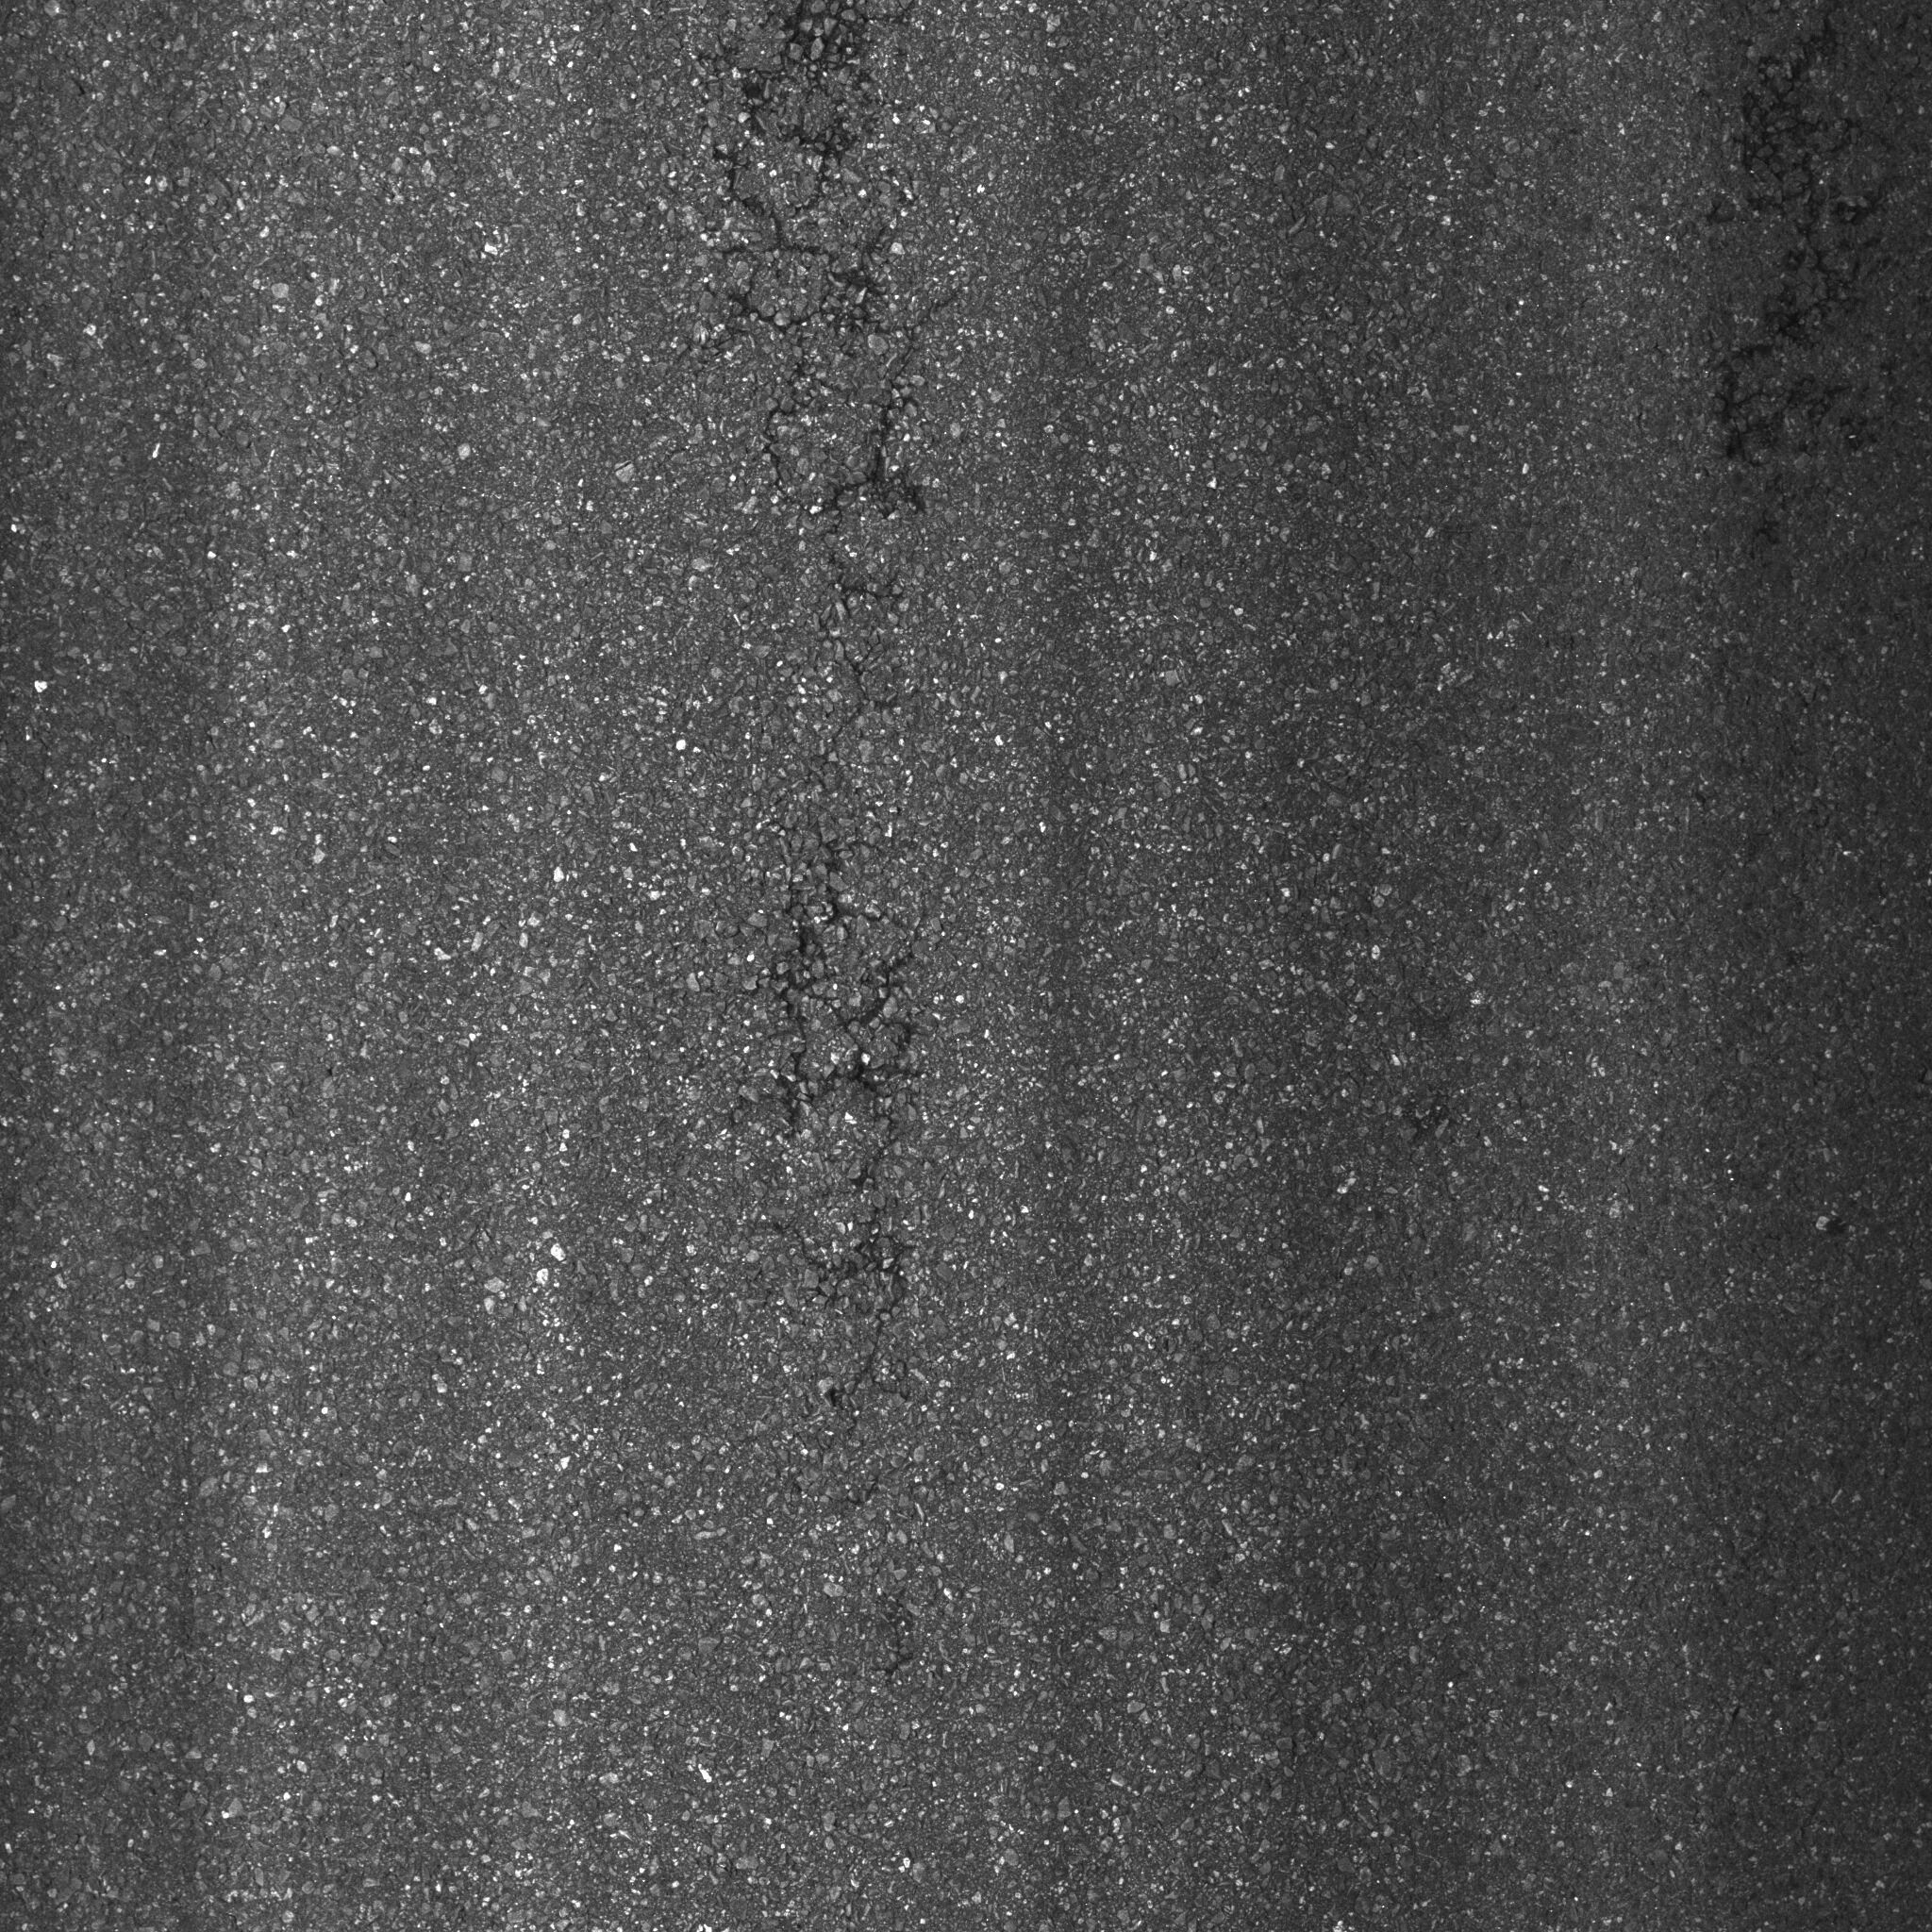alligator: (621, 2, 1065, 1458)
